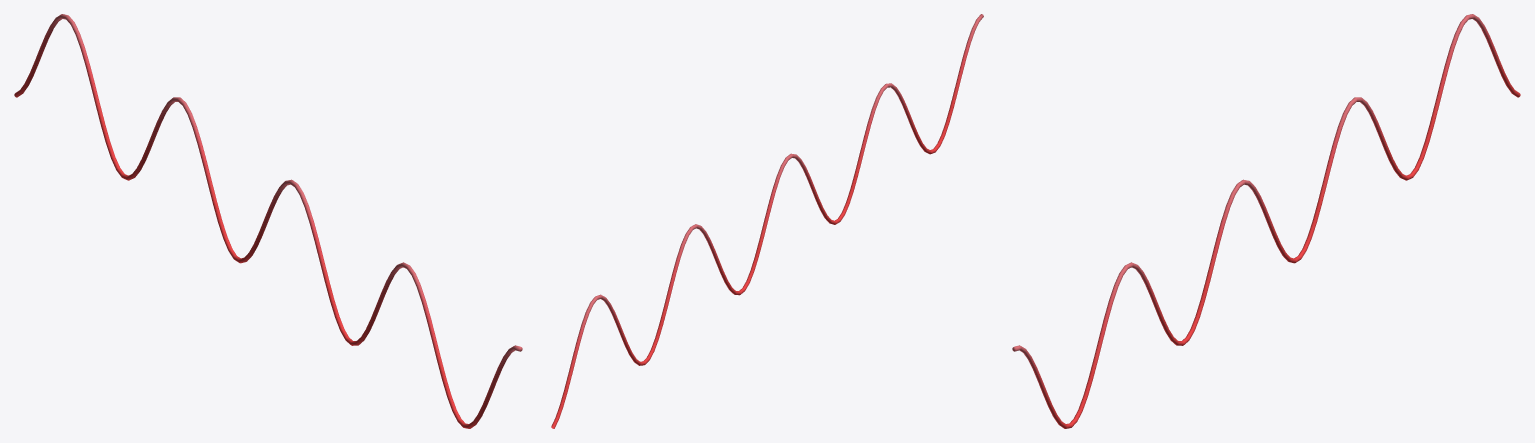
Rendered from Ultraviolet-final.glb.
3 renders of one model, left to right at view 1: azimuth 30°, elevation 25°; view 2: azimuth 150°, elevation 25°; view 3: azimuth 330°, elevation 25°, orthographic. The views are drawn at different scales.
Visible parts, largest first — view 1: ultra violet.002; view 2: ultra violet.002; view 3: ultra violet.002.
Part boxes in pixels (x1,y1,x2,y2): ultra violet.002: (14,14,522,428); ultra violet.002: (551,14,983,428); ultra violet.002: (1012,14,1520,428).
Bounding box in the file's own units: 0.0233 × 0.6784 × 5.09.
Materials: 1 (1 with a texture image).
